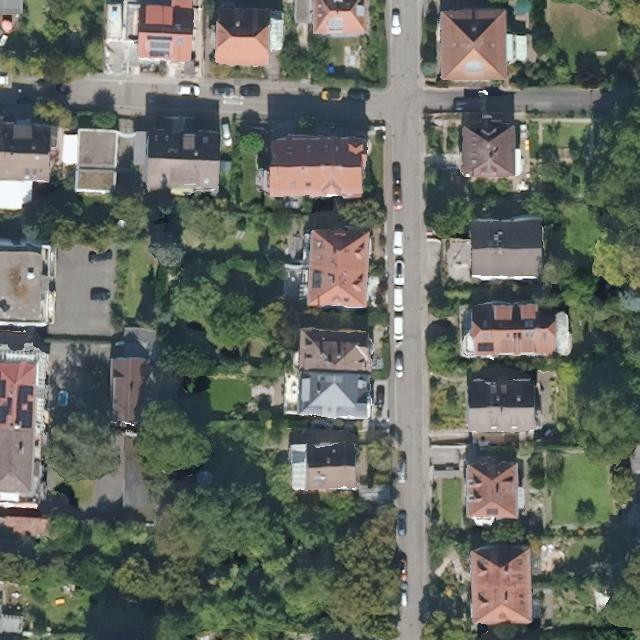PV: (15, 383, 34, 430), (0, 396, 13, 425), (1, 379, 7, 399)
